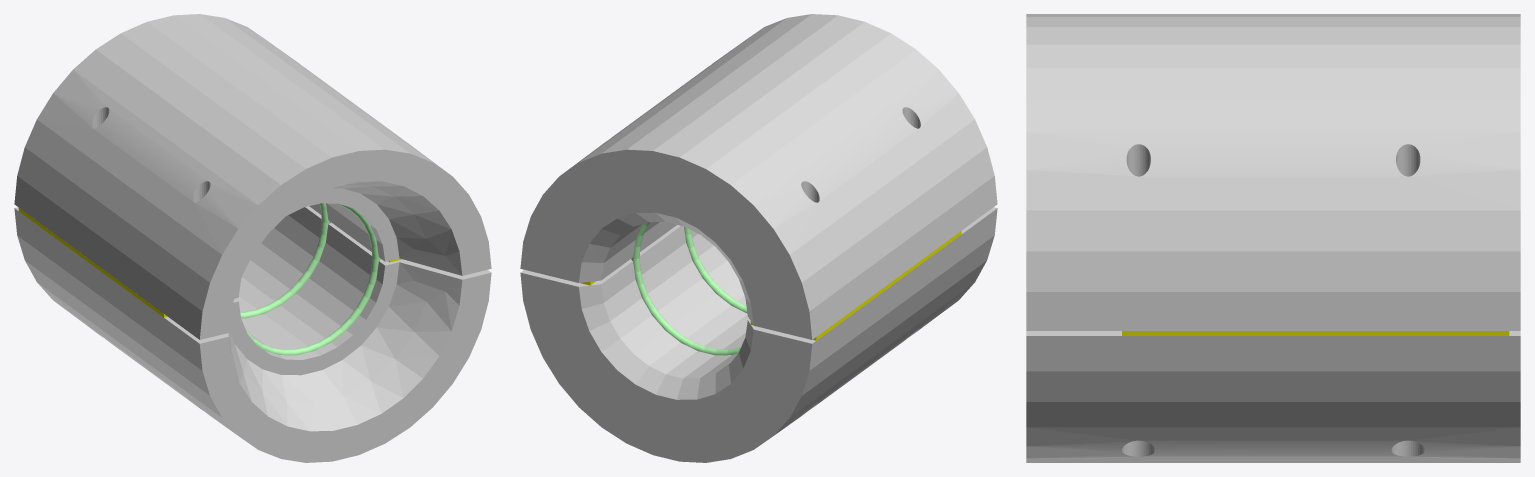
File: Stroke Limiter.glb
3 views of the same model, side by side, from view 1: azimuth 30°, elevation 25°; view 2: azimuth 150°, elevation 25°; view 3: azimuth 270°, elevation 25° (orthographic). The views are drawn at different scales.
Parts seen in each view (by area): view 1: b_Stroke_Limiter_Threaded_Half_001_.001, b_Stroke_Limiter_Cbore_Half_001_.001, Torus_001.001, b_Torus_002_001.001, b_Shim_001_001.001; view 2: b_Stroke_Limiter_Threaded_Half_001_.001, b_Stroke_Limiter_Cbore_Half_001_.001, b_Torus_002_.001, b_Torus_002_001.001, b_Shim_001_001.001; view 3: b_Stroke_Limiter_Threaded_Half_001_.001, b_Stroke_Limiter_Cbore_Half_001_.001, b_Shim_001_.001.
Boxes of the visible parts, x1=… form: b_Stroke_Limiter_Threaded_Half_001_.001: x1=14, y1=14, x2=491, y2=339; b_Stroke_Limiter_Cbore_Half_001_.001: x1=14, y1=206, x2=491, y2=462; Torus_001.001: x1=246, y1=203, x2=380, y2=355; b_Torus_002_001.001: x1=240, y1=203, x2=329, y2=318; b_Shim_001_001.001: x1=18, y1=208, x2=167, y2=317; b_Stroke_Limiter_Threaded_Half_001_.001: x1=520, y1=14, x2=997, y2=339; b_Stroke_Limiter_Cbore_Half_001_.001: x1=520, y1=207, x2=997, y2=462; b_Torus_002_.001: x1=631, y1=222, x2=740, y2=355; b_Torus_002_001.001: x1=684, y1=227, x2=747, y2=313; b_Shim_001_001.001: x1=750, y1=231, x2=961, y2=340; b_Stroke_Limiter_Threaded_Half_001_.001: x1=1026, y1=14, x2=1520, y2=330; b_Stroke_Limiter_Cbore_Half_001_.001: x1=1026, y1=331, x2=1520, y2=462; b_Shim_001_.001: x1=1122, y1=331, x2=1509, y2=335.
Size of the model in its own units: 127 by 126 by 140.
